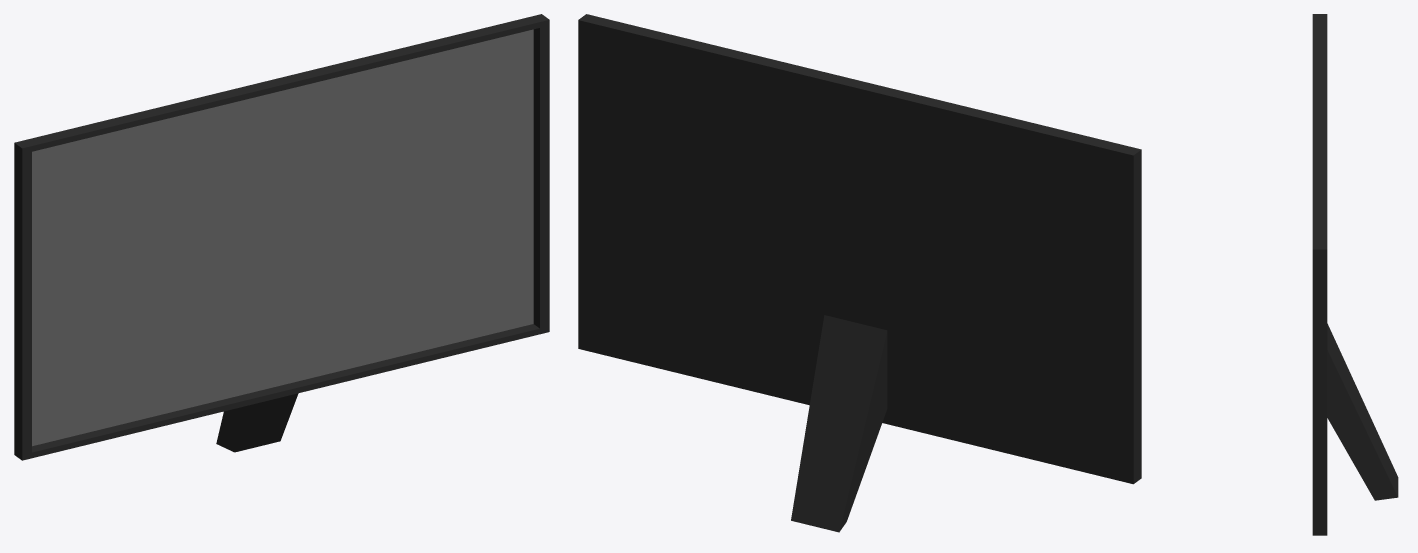
The model's file is Monitor.fbx.
3 renders of one model, left to right at view 1: azimuth 30°, elevation 25°; view 2: azimuth 150°, elevation 25°; view 3: azimuth 270°, elevation 25°, orthographic. The views are drawn at different scales.
Visible parts, largest first — view 1: Monitor; view 2: Monitor; view 3: Monitor.
Boxes of the visible parts, x1,y1,x2,y2 form: Monitor: (14,14,549,460); Monitor: (578,14,1141,532); Monitor: (1312,14,1398,535).
Bounding box in the file's own units: 222 × 157 × 92.97.
